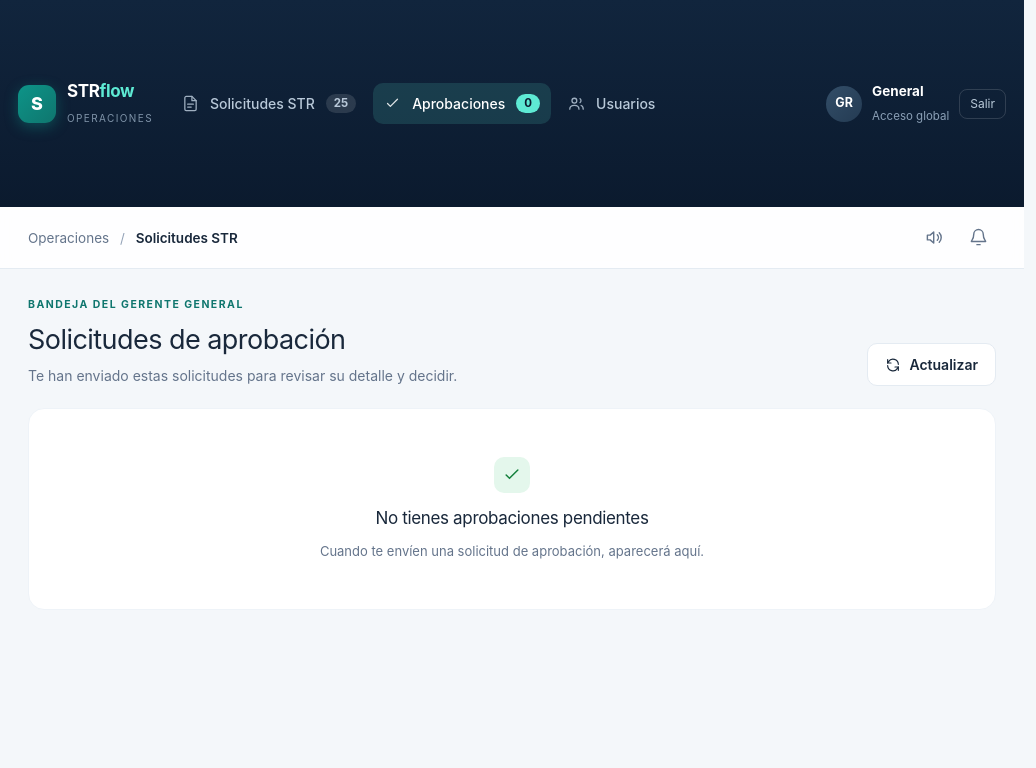
Test: paginación de la tabla › filtra por país en la vista general y actualiza conteos y resultados
Click the link "Solicitudes STR 25" at (269, 104), box [182,94,356,113]
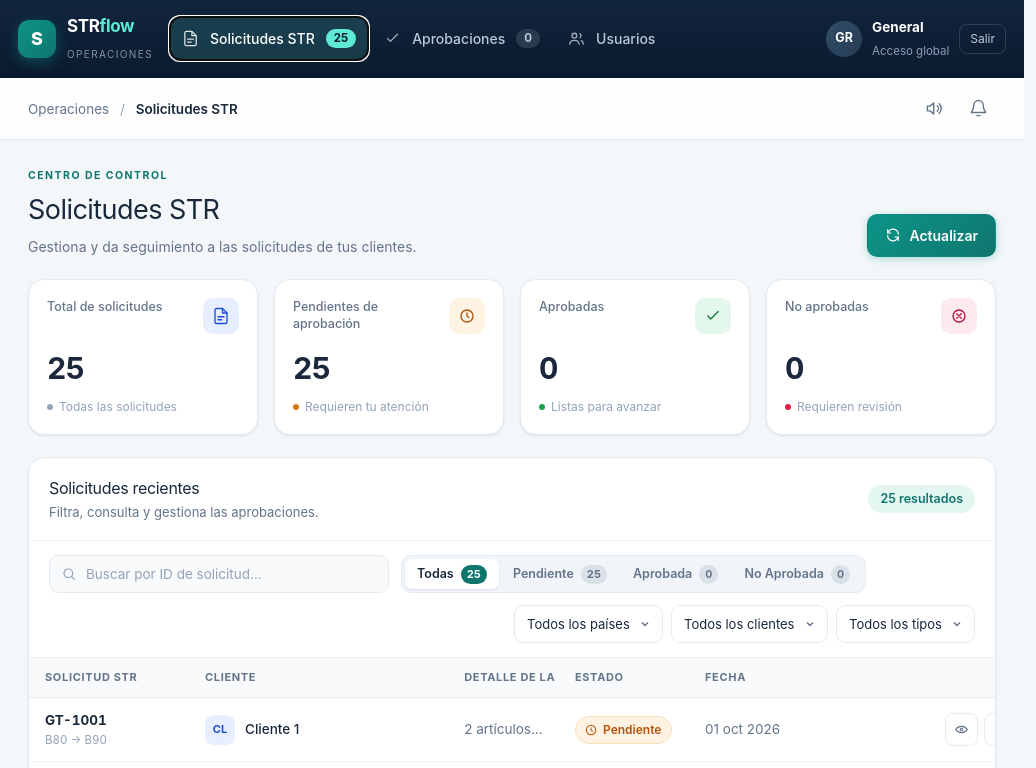
Select "El Salvador" in the dropdown named "Filtrar por país" at (588, 624), box [514,605,663,643]
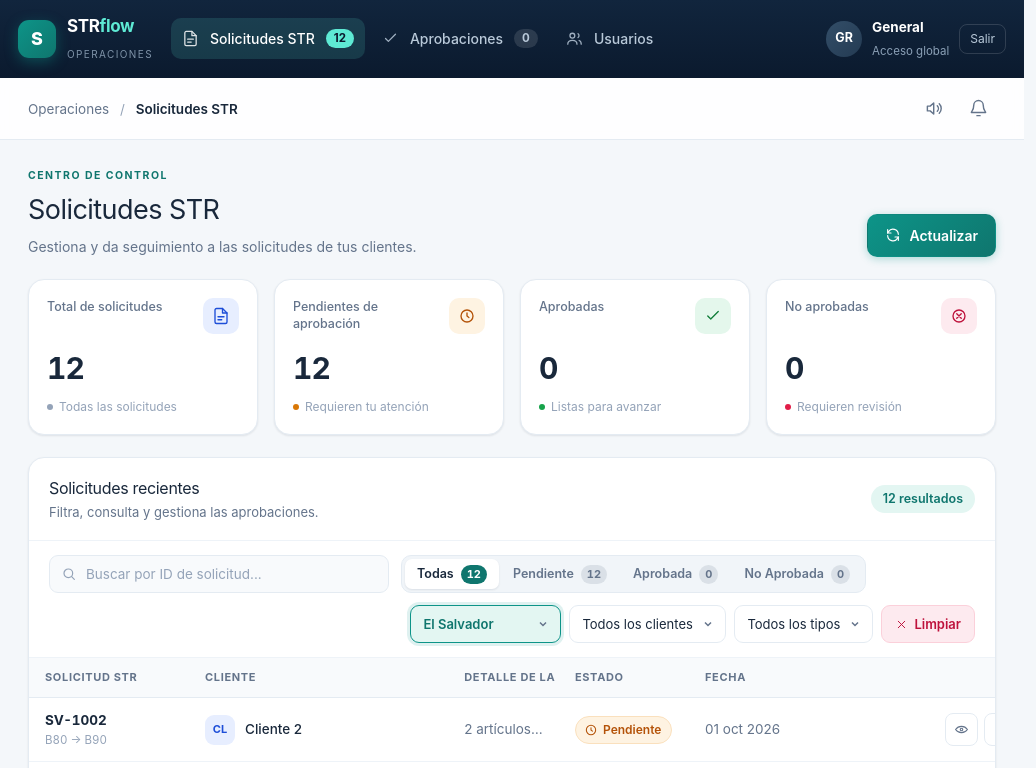
Now the cell "SV-1002 B80 → B90" is shown, box [29,697,189,762]
Now the text "12 resultados" is shown, box [871,485,975,513]
Now the button "Pendiente 12" is shown, box [501,559,619,589]
